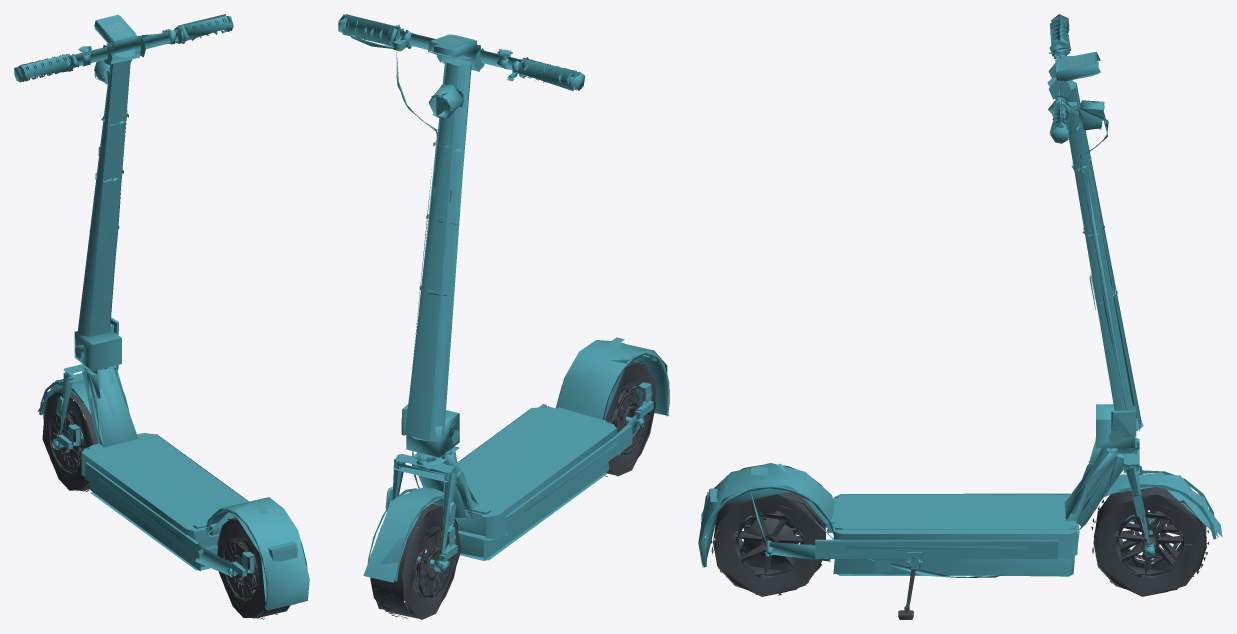
Rendered from scooter.glb.
The picture shows the model from 3 angles, left to right: view 1: azimuth 30°, elevation 25°; view 2: azimuth 150°, elevation 25°; view 3: azimuth 270°, elevation 25°; orthographic projection. The views are drawn at different scales.
Parts seen in each view (by area): view 1: forks_u.002, extra_1.001, wheel_lf.child.002, wheel_lr.child.002; view 2: forks_u.002, extra_1.001, wheel_lf.child.002, wheel_lr.child.002; view 3: forks_u.002, extra_1.001, wheel_lf.child.002, wheel_lr.child.002.
Part boxes in pixels (bbox=[...]): forks_u.002: bbox=[37, 364, 309, 610]; extra_1.001: bbox=[14, 14, 233, 375]; wheel_lf.child.002: bbox=[42, 388, 97, 491]; wheel_lr.child.002: bbox=[217, 516, 290, 619]; forks_u.002: bbox=[363, 337, 669, 582]; extra_1.001: bbox=[338, 14, 585, 461]; wheel_lf.child.002: bbox=[370, 502, 461, 619]; wheel_lr.child.002: bbox=[605, 361, 656, 476]; forks_u.002: bbox=[698, 437, 1222, 577]; extra_1.001: bbox=[1047, 14, 1143, 452]; wheel_lf.child.002: bbox=[1091, 487, 1208, 596]; wheel_lr.child.002: bbox=[711, 492, 828, 596].
Bounding box in the file's own units: 0.6335 × 1.4 × 1.24.
